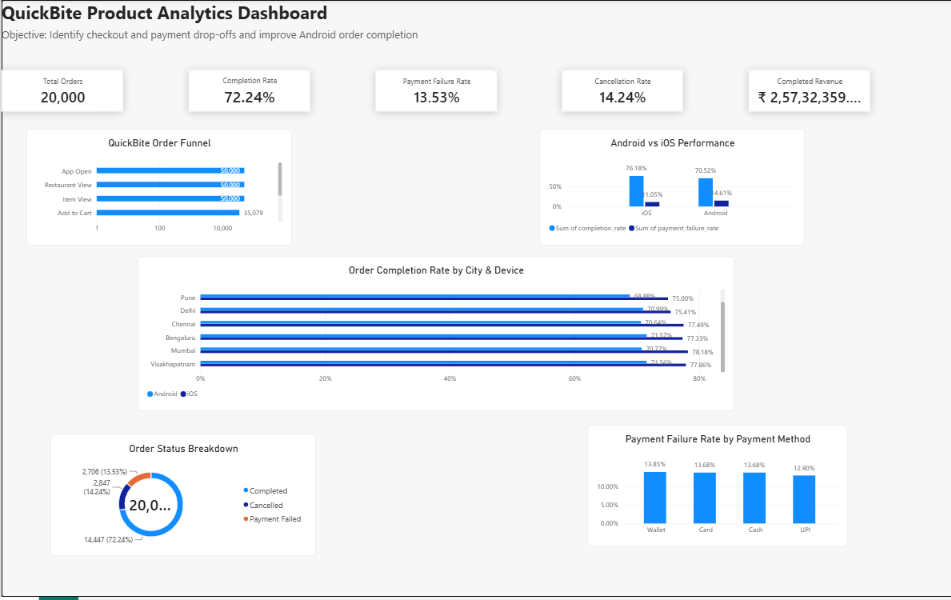

Layout of this report page (visuals, bound fields, positions):
{"tool":"powerbi","page":{"name":"Page 1","canvas":[1920,1080],"ordinal":0},"visuals":[{"type":"clusteredBarChart","title":"QuickBite Order Funnel","fields":{"Category":["quickbite dashboard_funnel.funnel_stage"],"Y":["Sum(quickbite dashboard_funnel.event_count)"]},"box":[45.6,233.6,480,210],"z":0},{"type":"clusteredColumnChart","title":"Android vs iOS Performance","fields":{"Category":["quickbite dashboard_device.device_type"],"Y":["Sum(quickbite dashboard_device.completion_rate)","Sum(quickbite dashboard_device.payment_failure_rate)"]},"box":[974,234,480,210],"z":1},{"type":"clusteredBarChart","title":"Order Completion Rate by City & Device","fields":{"Category":["quickbite dashboard_city_device.city"],"Series":["quickbite dashboard_city_device.device_type"],"Y":["Sum(quickbite dashboard_city_device.completion_rate)"]},"box":[246,464,1080,280],"z":3},{"type":"textbox","box":[0,0,636,96],"z":6},{"type":"textbox","box":[0,48,760,58],"z":8},{"type":"donutChart","title":"Order Status Breakdown","fields":{"Category":["quickbite dashboard_order_status (2).status_name"],"Y":["Sum(quickbite dashboard_order_status (2).status_count)"]},"box":[88,786,480,220],"z":9},{"type":"clusteredColumnChart","title":"Payment Failure Rate by Payment Method","fields":{"Category":["quickbite dashboard_payment_method.payment_method"],"Y":["Avg(quickbite dashboard_payment_method.payment_failure_rate)"]},"box":[1060,770,470,220],"z":10},{"type":"cardVisual","fields":{"Data":["Sum(quickbite dashboard_kpis.total_orders)"]},"box":[0,126,220,75],"z":11},{"type":"cardVisual","fields":{"Data":["Sum(quickbite dashboard_kpis.completion_rate)"]},"box":[338,126,220,75],"z":12},{"type":"cardVisual","fields":{"Data":["Sum(quickbite dashboard_kpis.payment_failure_rate)"]},"box":[676,126,220,75],"z":13},{"type":"cardVisual","fields":{"Data":["Sum(quickbite dashboard_kpis.cancellation_rate)"]},"box":[1014,126,220,75],"z":14},{"type":"cardVisual","fields":{"Data":["Sum(quickbite dashboard_kpis.completed_revenue)"]},"box":[1352,126,220,75],"z":15}]}

Visuals, with their boxes on the page's 1920x1080 design canvas (x1, y1, x2, y2). These are canvas units, not pixel positions in the 951x600 screenshot, which may show the page scaled, cropped or inside an application window:
"QuickBite Order Funnel" clusteredBarChart: {"x1": 46, "y1": 234, "x2": 526, "y2": 444}
"Android vs iOS Performance" clusteredColumnChart: {"x1": 974, "y1": 234, "x2": 1454, "y2": 444}
"Order Completion Rate by City & Device" clusteredBarChart: {"x1": 246, "y1": 464, "x2": 1326, "y2": 744}
textbox: {"x1": 0, "y1": 0, "x2": 636, "y2": 96}
textbox: {"x1": 0, "y1": 48, "x2": 760, "y2": 106}
"Order Status Breakdown" donutChart: {"x1": 88, "y1": 786, "x2": 568, "y2": 1006}
"Payment Failure Rate by Payment Method" clusteredColumnChart: {"x1": 1060, "y1": 770, "x2": 1530, "y2": 990}
cardVisual - Sum(quickbite dashboard_kpis.total_orders): {"x1": 0, "y1": 126, "x2": 220, "y2": 201}
cardVisual - Sum(quickbite dashboard_kpis.completion_rate): {"x1": 338, "y1": 126, "x2": 558, "y2": 201}
cardVisual - Sum(quickbite dashboard_kpis.payment_failure_rate): {"x1": 676, "y1": 126, "x2": 896, "y2": 201}
cardVisual - Sum(quickbite dashboard_kpis.cancellation_rate): {"x1": 1014, "y1": 126, "x2": 1234, "y2": 201}
cardVisual - Sum(quickbite dashboard_kpis.completed_revenue): {"x1": 1352, "y1": 126, "x2": 1572, "y2": 201}
